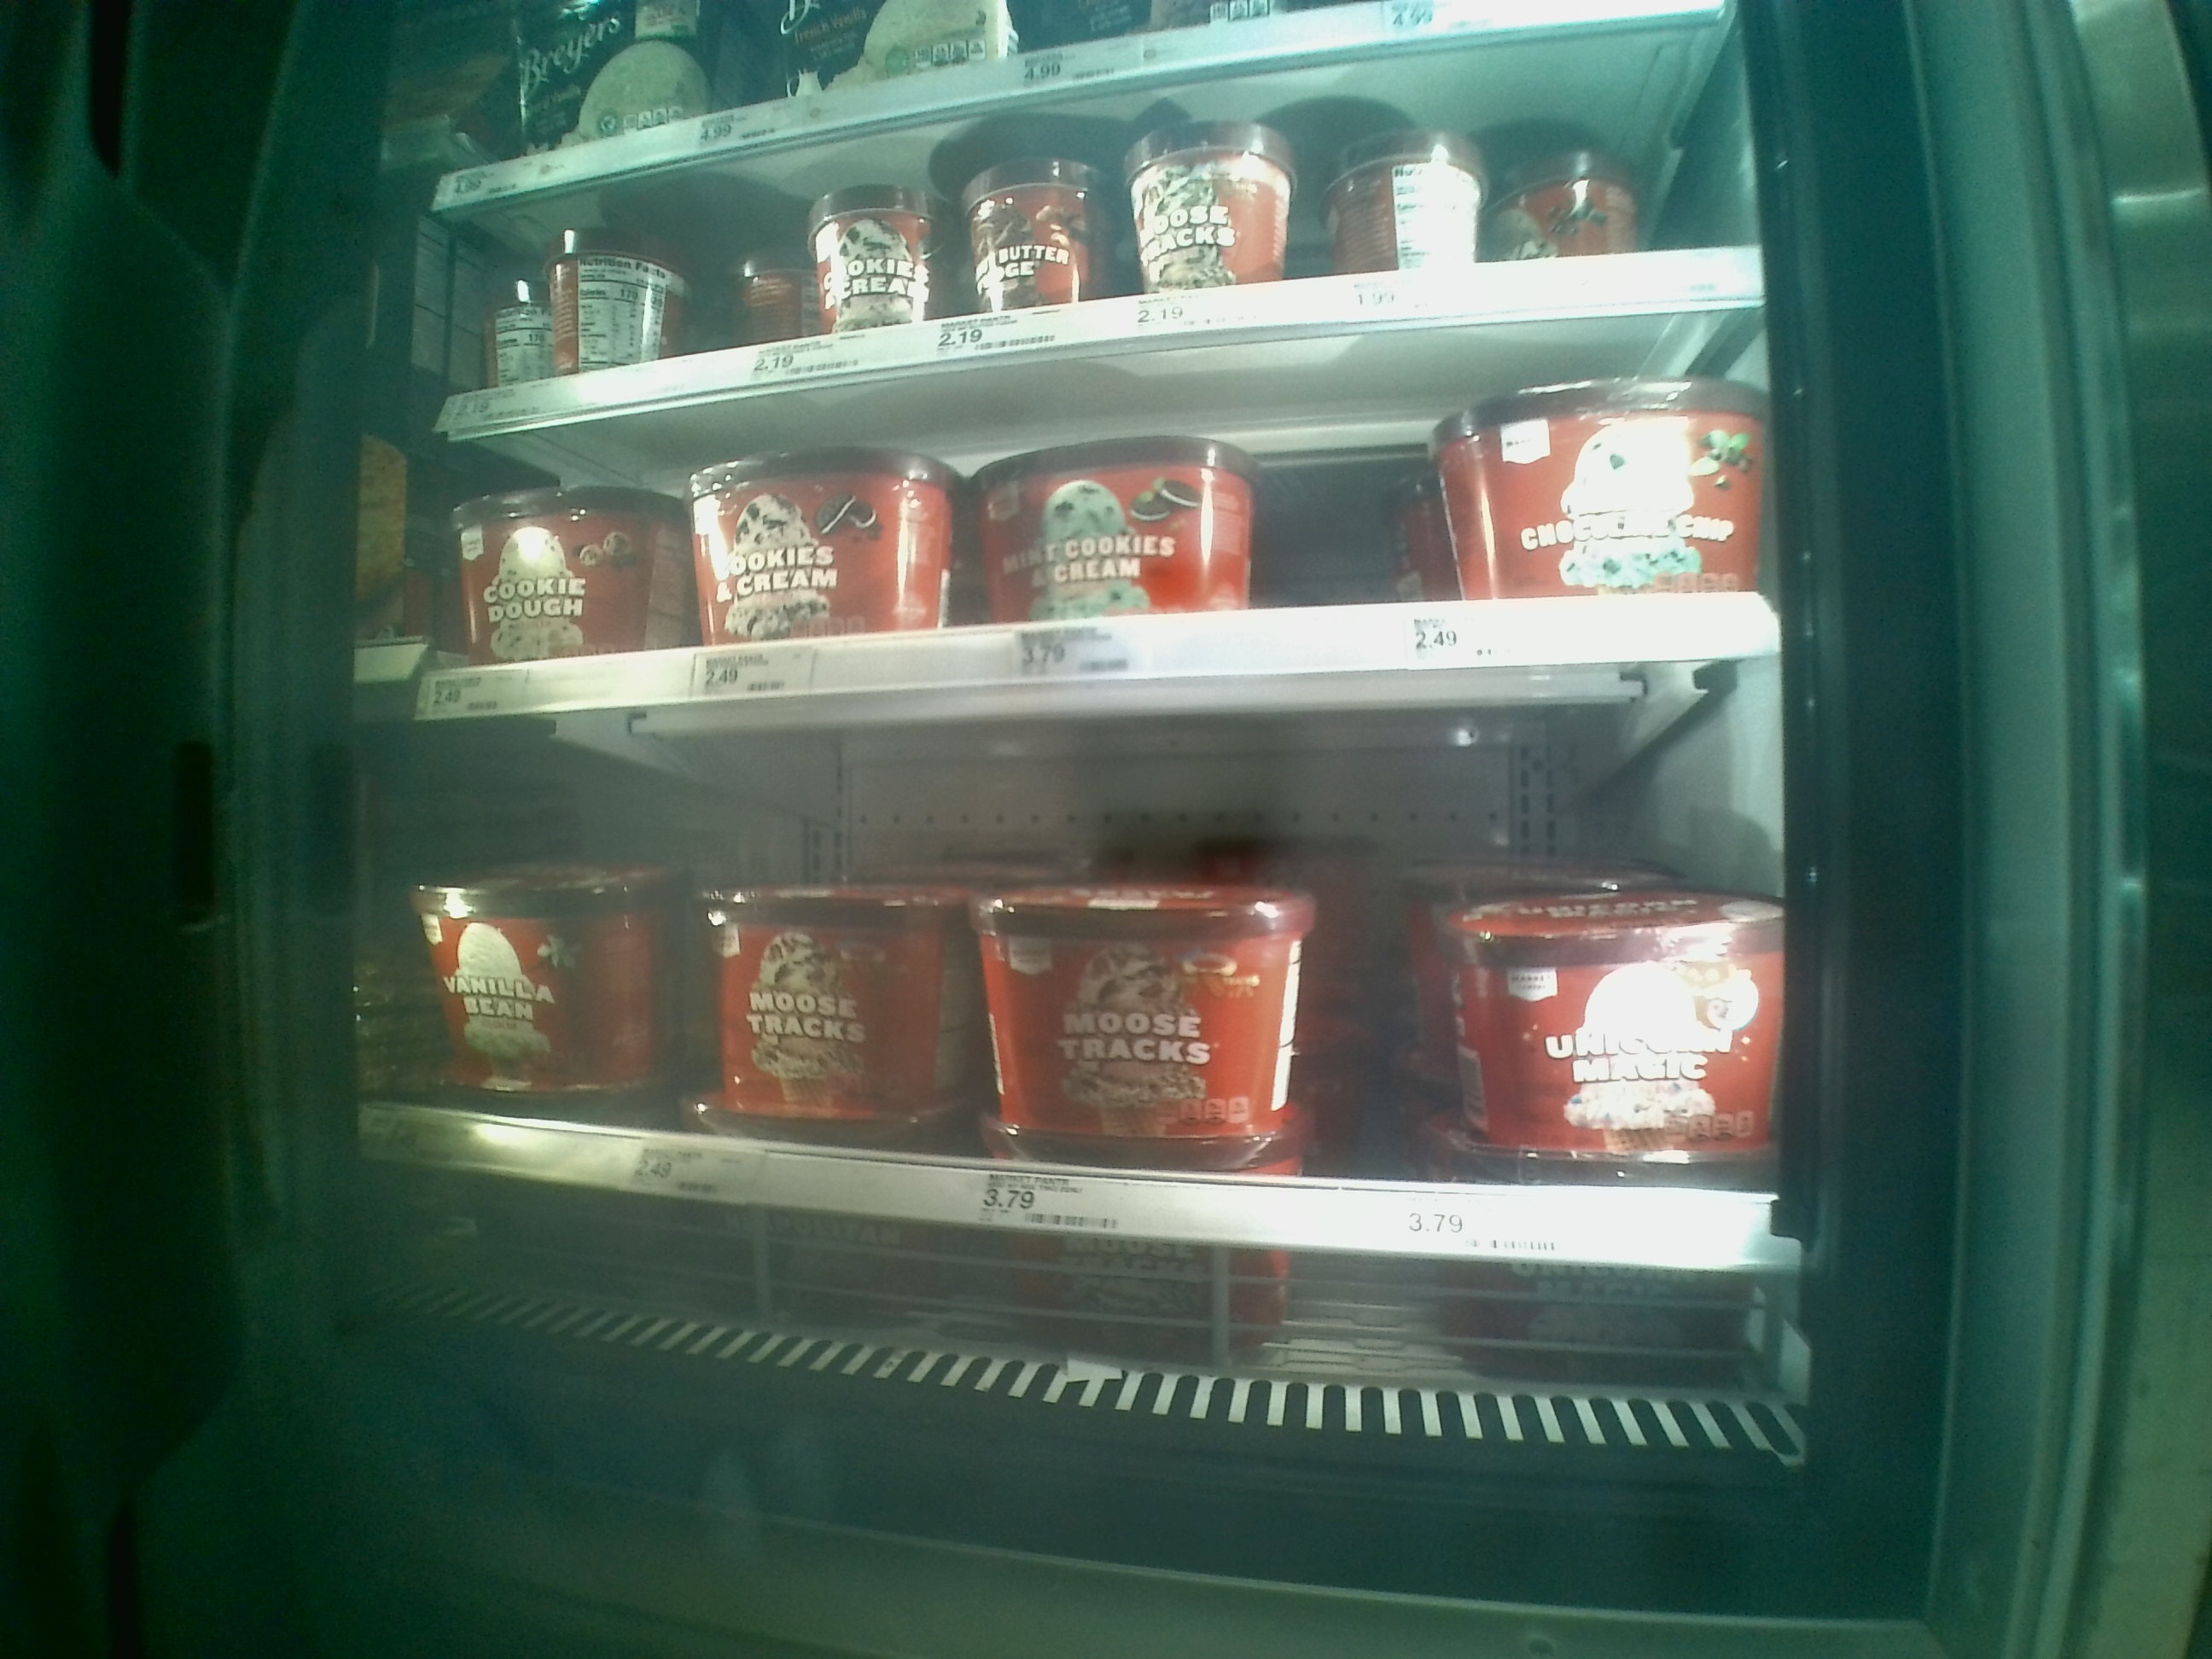shelf: (376, 683, 1785, 1270), (415, 289, 1770, 721)
